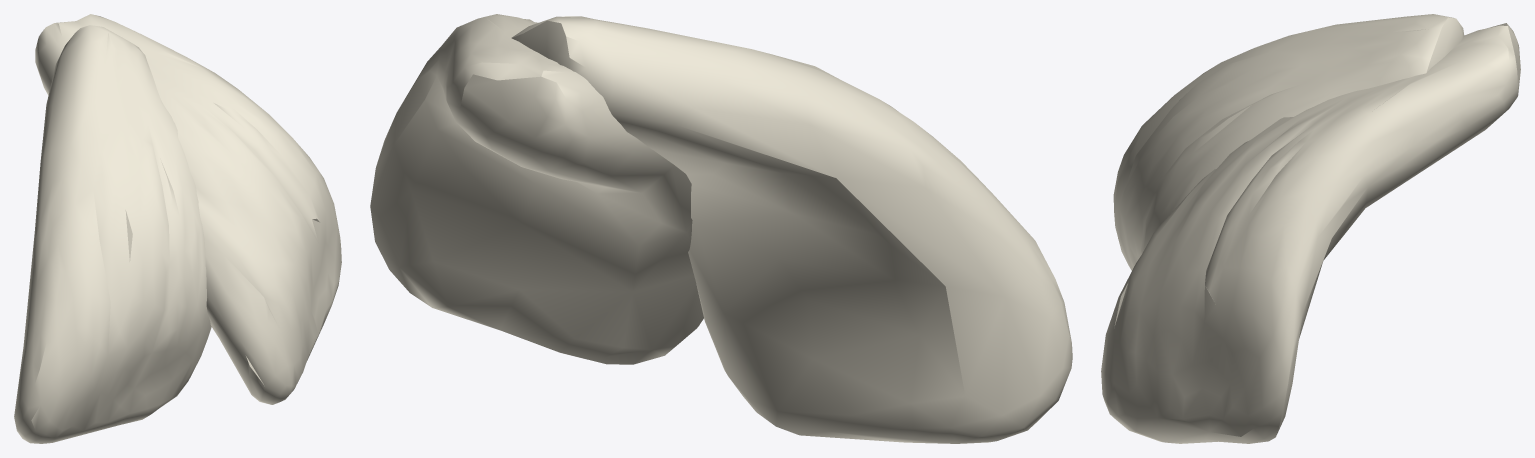
Rendered from fma73182_mm1465.glb.
The picture shows the model from 3 angles, left to right: view 1: azimuth 30°, elevation 25°; view 2: azimuth 150°, elevation 25°; view 3: azimuth 270°, elevation 25°; orthographic projection. The views are drawn at different scales.
Visible parts, largest first — view 1: FMA73182_MM1465; view 2: FMA73182_MM1465; view 3: FMA73182_MM1465.
Part boxes in pixels (x1,y1,x2,y2): FMA73182_MM1465: [14, 14, 341, 443]; FMA73182_MM1465: [370, 14, 1072, 443]; FMA73182_MM1465: [1101, 14, 1520, 443].
Size of the model in its own units: 0.00998 by 0.00787 by 0.00775.
